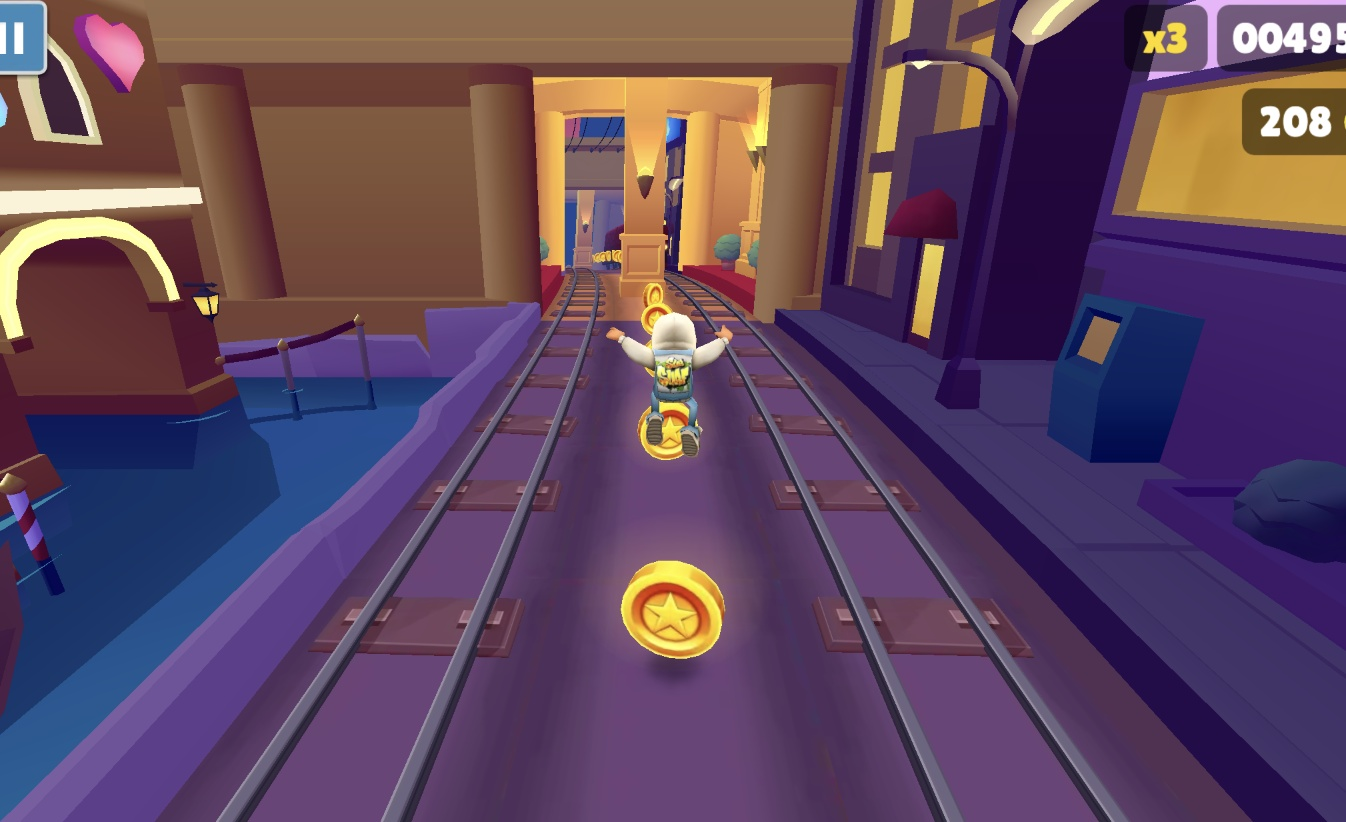pillar: (618, 78, 668, 298), (573, 190, 595, 268)
